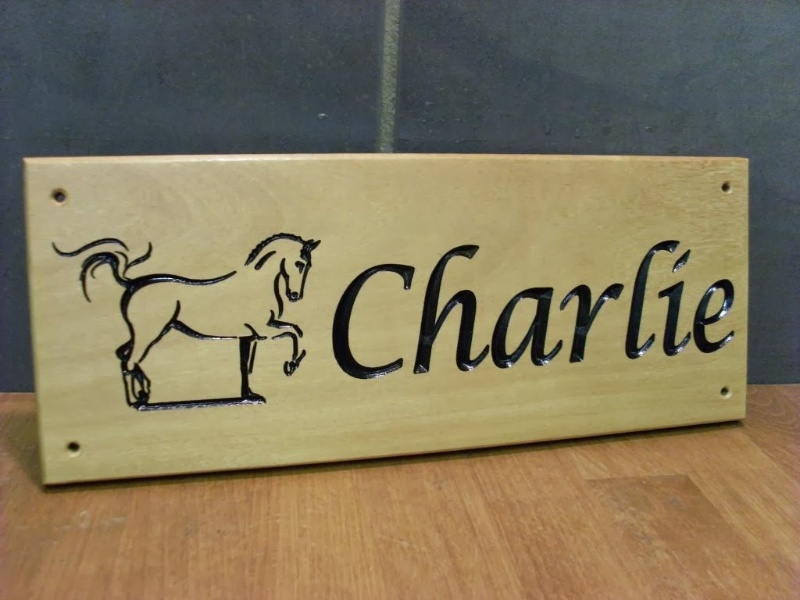text: (337, 239, 352, 383), (353, 239, 368, 383), (369, 239, 384, 383), (385, 239, 400, 383), (401, 239, 416, 383), (417, 239, 432, 383), (433, 239, 448, 383), (449, 239, 464, 383), (465, 239, 480, 383), (481, 239, 496, 383), (497, 239, 512, 383), (513, 239, 528, 383), (529, 239, 544, 383), (545, 239, 560, 383), (561, 239, 576, 383), (577, 239, 592, 383), (593, 239, 608, 383), (609, 239, 624, 383), (625, 239, 640, 383), (641, 239, 656, 383), (657, 239, 672, 383), (673, 239, 688, 383), (689, 239, 704, 383), (705, 239, 720, 383), (721, 239, 736, 383), (331, 239, 336, 383)
